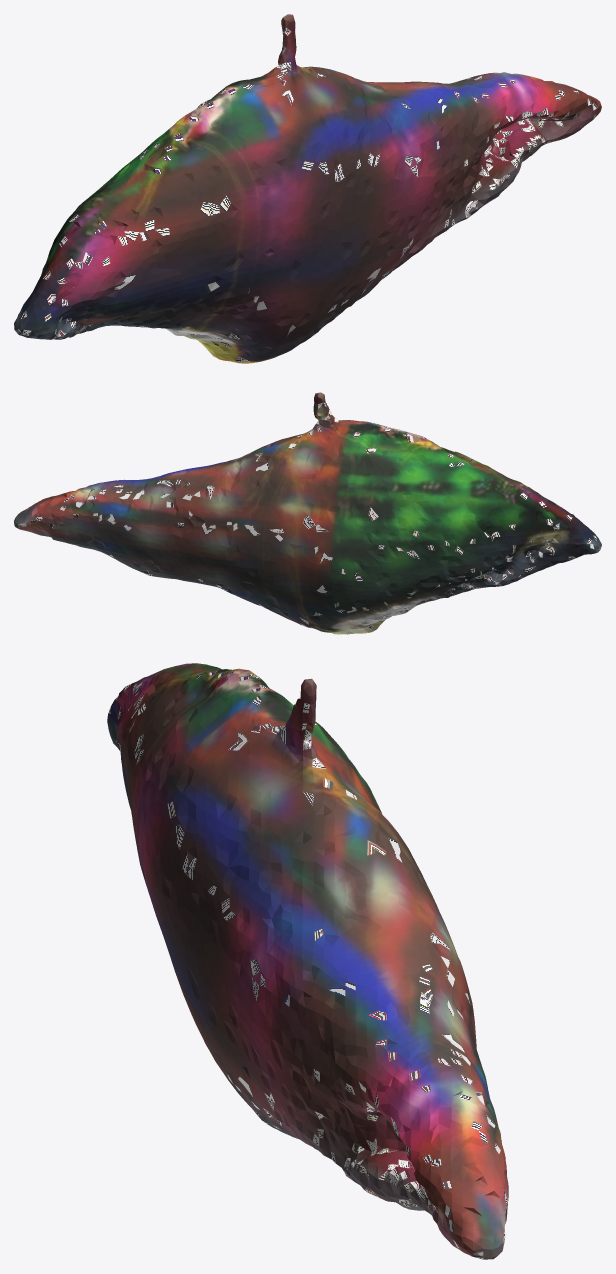
File: shark2cleanup.obj
3 renders of one model, top to bottom at view 1: azimuth 30°, elevation 25°; view 2: azimuth 150°, elevation 25°; view 3: azimuth 270°, elevation 25°, orthographic. The views are drawn at different scales.
Visible parts, largest first — view 1: shark_attack_v2; view 2: shark_attack_v2; view 3: shark_attack_v2.
Boxes of the visible parts, x1,y1,x2,y2 form: shark_attack_v2: (14,14,601,363); shark_attack_v2: (14,392,601,634); shark_attack_v2: (107,663,508,1259).
Bounding box in the file's own units: 4 × 1.82 × 1.4.
